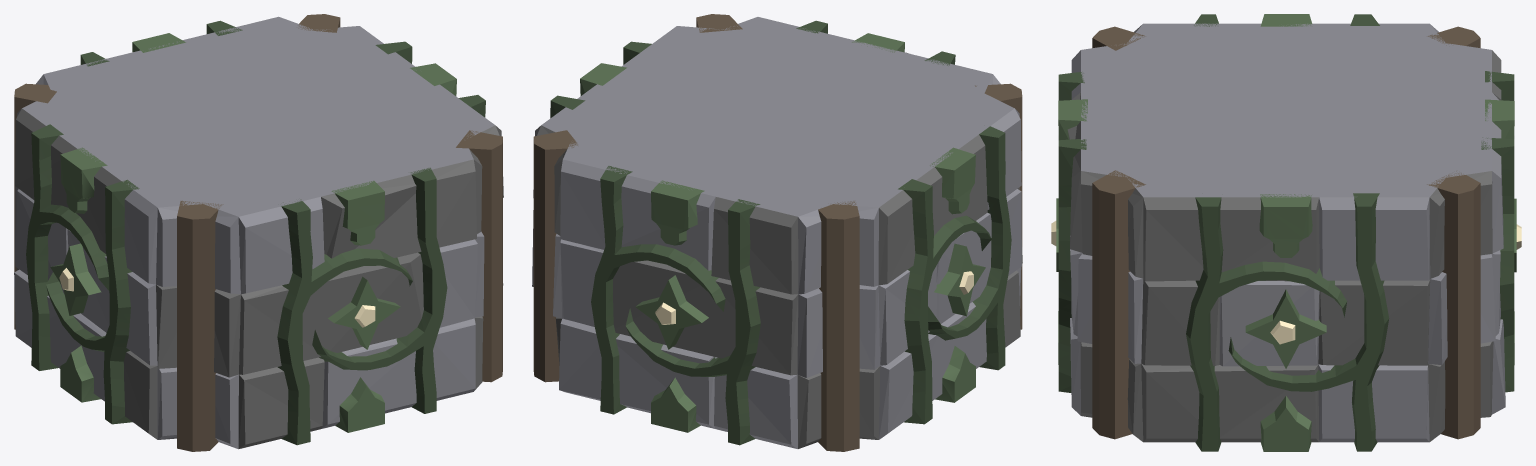
File: _TOWER_5_BASE_01.fbx
3 renders of one model, left to right at view 1: azimuth 30°, elevation 25°; view 2: azimuth 150°, elevation 25°; view 3: azimuth 270°, elevation 25°, orthographic. The views are drawn at different scales.
Visible parts, largest first — view 1: TOWER_5_BASE_01; view 2: TOWER_5_BASE_01; view 3: TOWER_5_BASE_01.
Part boxes in pixels (bbox=[...]): TOWER_5_BASE_01: bbox=[14, 14, 503, 451]; TOWER_5_BASE_01: bbox=[532, 14, 1022, 451]; TOWER_5_BASE_01: bbox=[1051, 14, 1521, 451].
Size of the model in its own units: 595 by 342 by 595.
